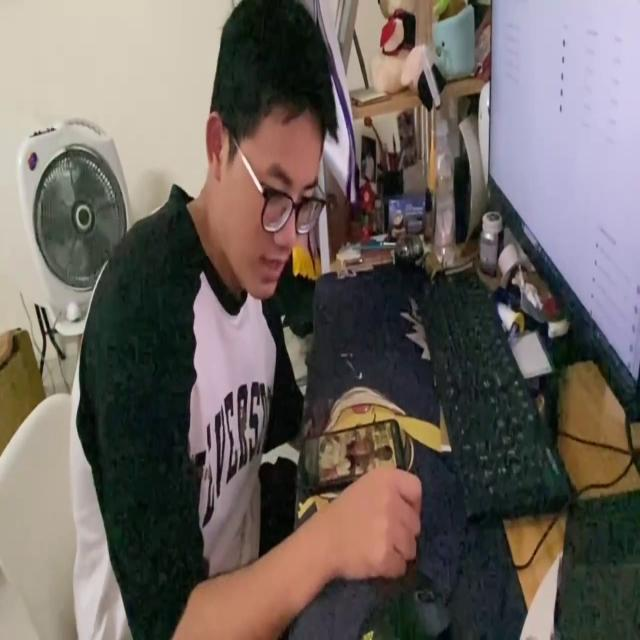laptop: (485, 0, 640, 423)
phone: (297, 415, 405, 490)
student: (63, 0, 425, 640)
